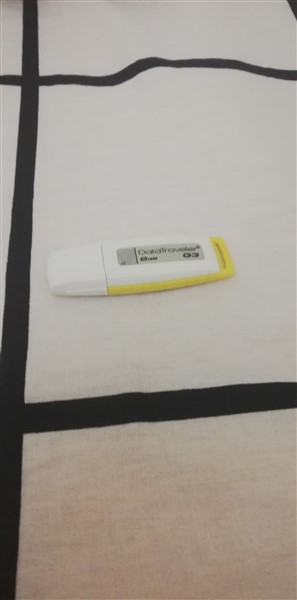flash disk: (43, 230, 235, 304)
